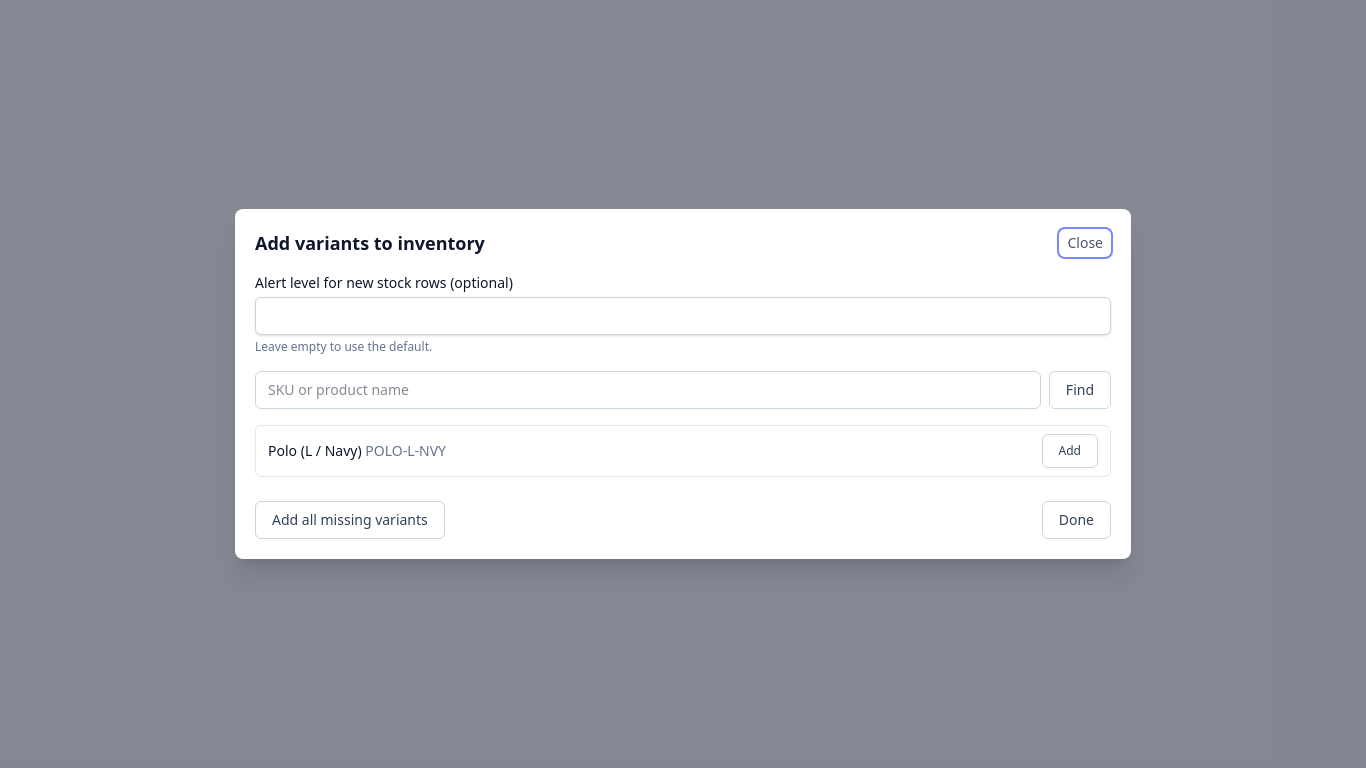
AddToInventoryModal › adds one variant with the default alert level when the field is empty
The width and height of the screenshot is (1366, 768).
Click the button with aria-label "Add POLO-L-NVY to inventory": (1070, 451) top-left (1042, 434), bottom-right (1098, 468)
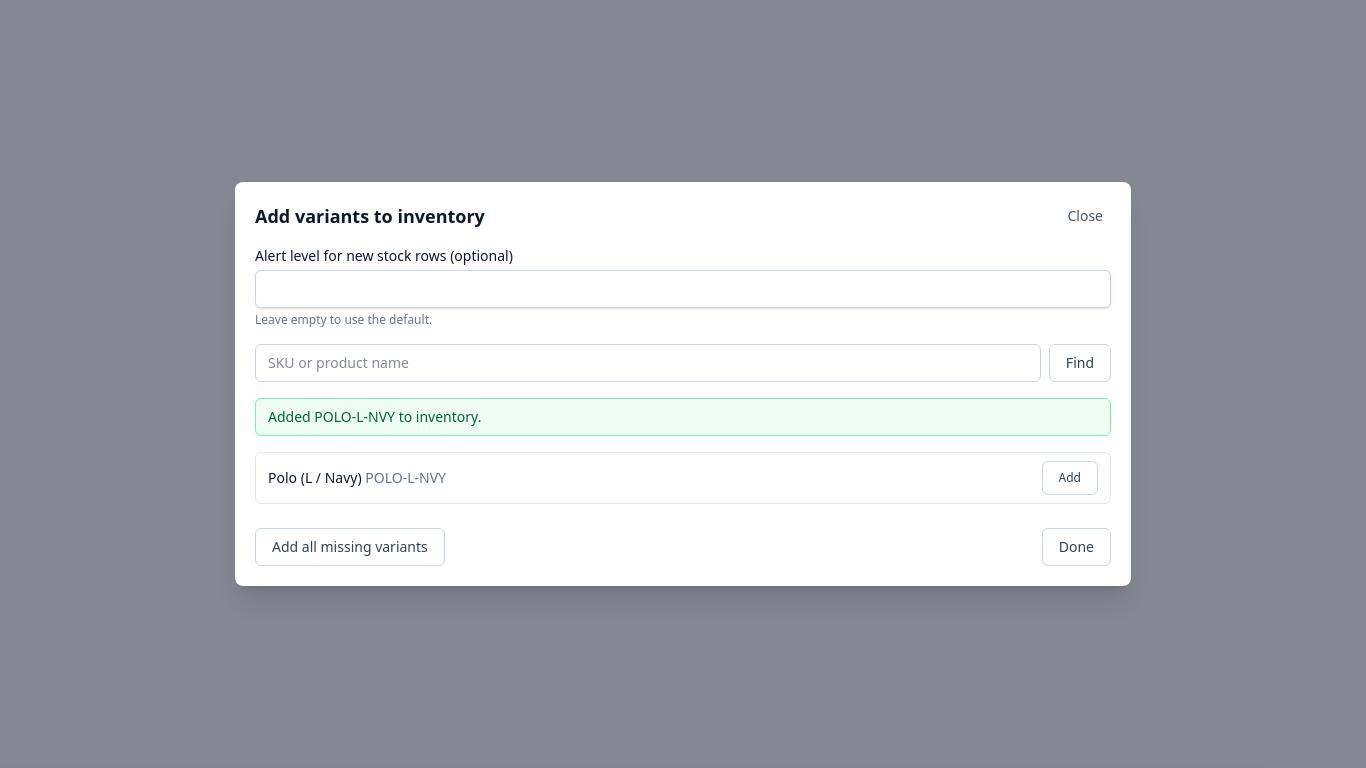
Result: the text "Added POLO-L-NVY to inventory." is shown at top-left (255, 398), bottom-right (1111, 436)
